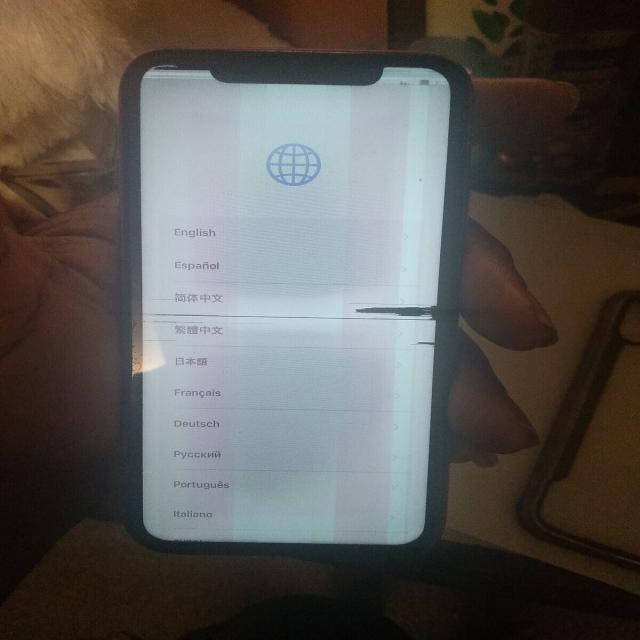dead pixel: (332, 287, 445, 351)
